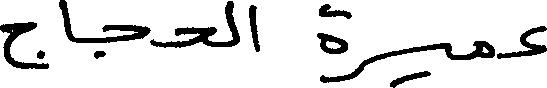X: (316, 0, 346, 87), (0, 17, 36, 73), (104, 20, 151, 60), (348, 7, 367, 84), (175, 22, 214, 52), (521, 21, 546, 60), (249, 0, 260, 56), (226, 0, 238, 51), (62, 0, 72, 46), (478, 36, 493, 62), (442, 38, 452, 64)
